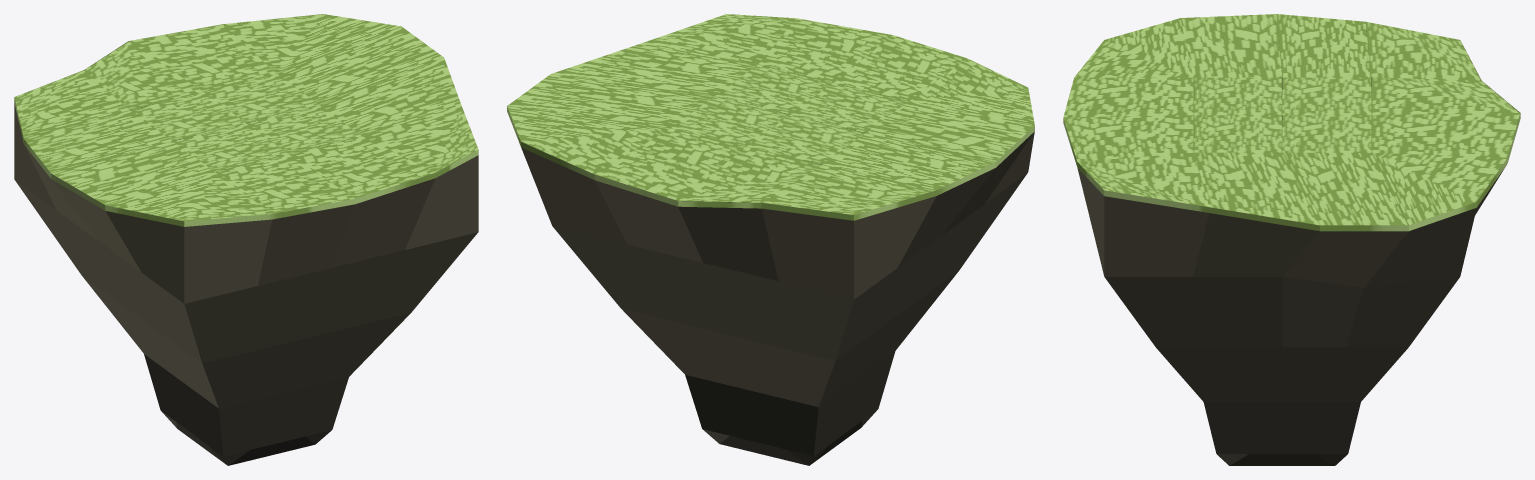
File: Island.glb
The picture shows the model from 3 angles, left to right: view 1: azimuth 30°, elevation 25°; view 2: azimuth 150°, elevation 25°; view 3: azimuth 270°, elevation 25°; orthographic projection. The views are drawn at different scales.
Parts seen in each view (by area): view 1: Island; view 2: Island; view 3: Island.
Part boxes in pixels (bbox=[...]): Island: bbox=[14, 14, 478, 465]; Island: bbox=[507, 14, 1034, 465]; Island: bbox=[1063, 14, 1520, 465].
Size of the model in its own units: 5.27 by 3.82 by 4.81.
Materials: 1 (1 with a texture image).
